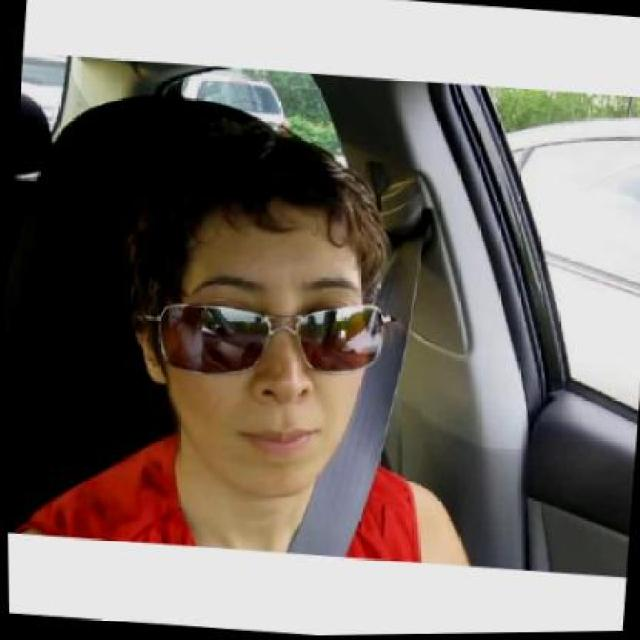attentif: (120, 121, 386, 510)
